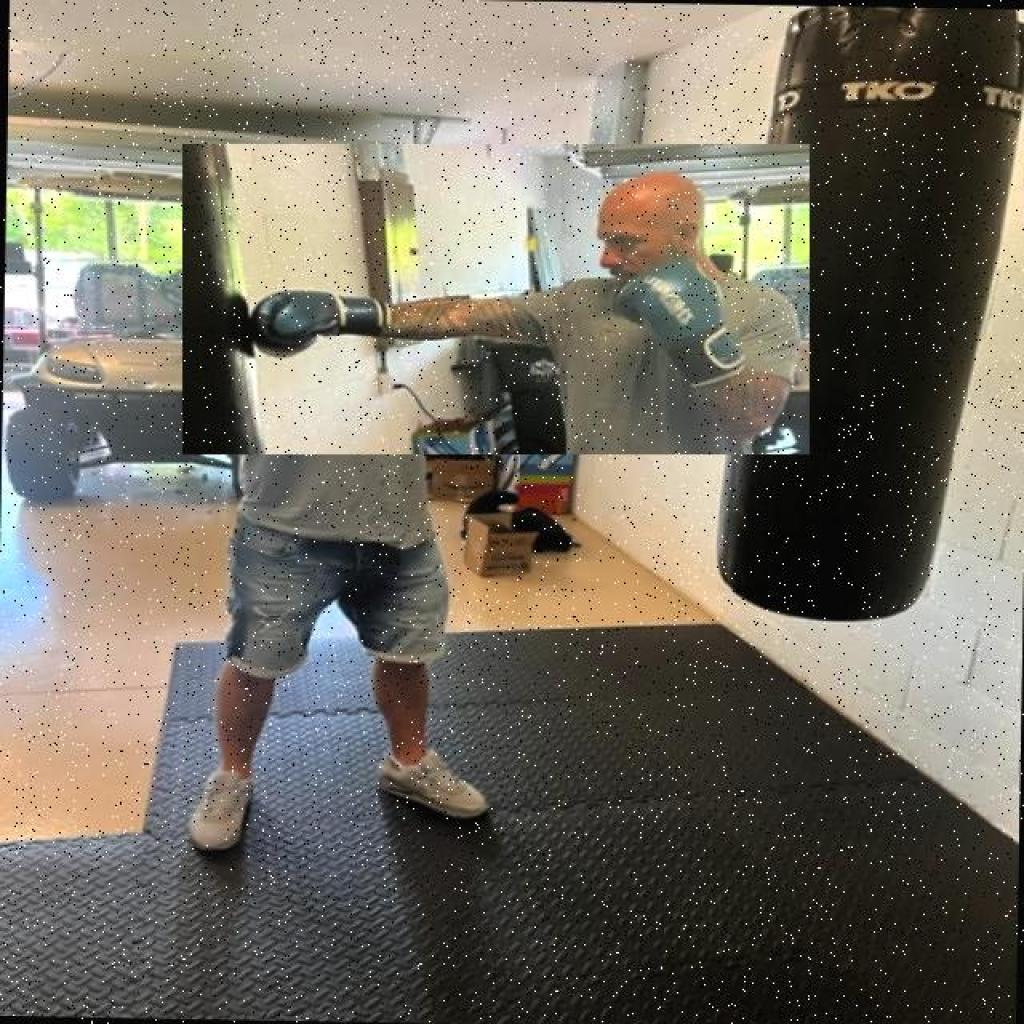jab: (182, 144, 810, 454)
